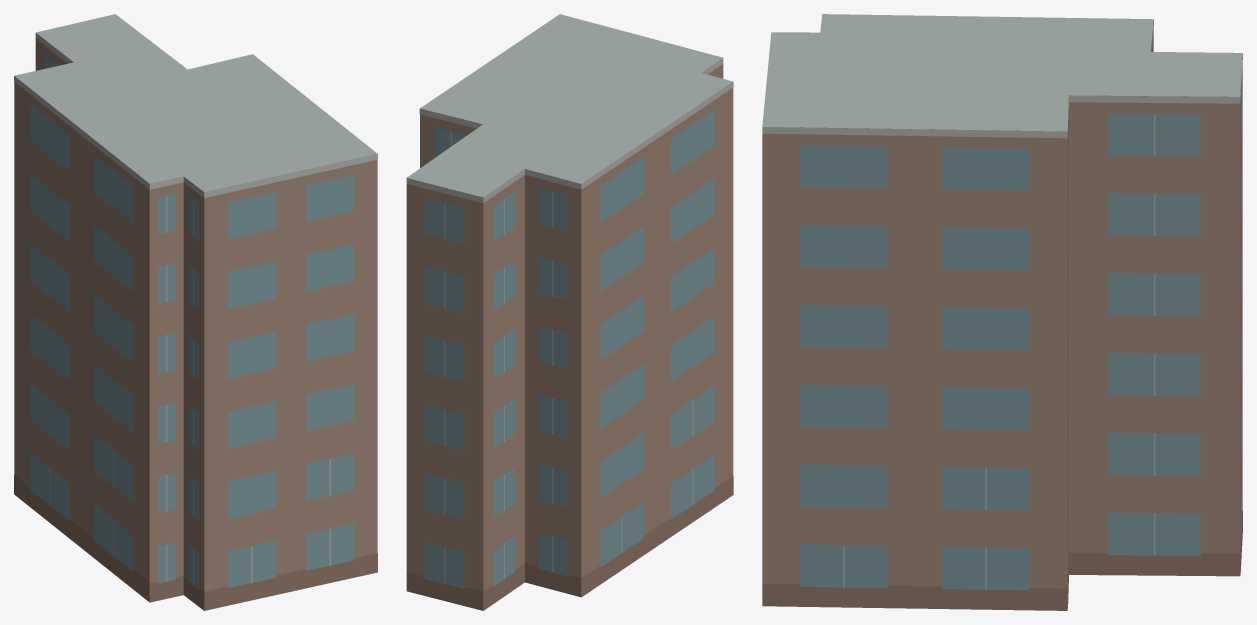
The model's file is survey-upis-32902426.glb.
3 renders of one model, left to right at view 1: azimuth 30°, elevation 25°; view 2: azimuth 150°, elevation 25°; view 3: azimuth 270°, elevation 25°, orthographic. The views are drawn at different scales.
Visible parts, largest first — view 1: survey-upis-32902426.tmp; view 2: survey-upis-32902426.tmp; view 3: survey-upis-32902426.tmp.
Part boxes in pixels (box(x1,y1,x2,y2)): survey-upis-32902426.tmp: box(14, 14, 377, 610); survey-upis-32902426.tmp: box(406, 14, 733, 610); survey-upis-32902426.tmp: box(762, 14, 1242, 610).
Bounding box in the file's own units: 9.05 × 17.2 × 15.63.
